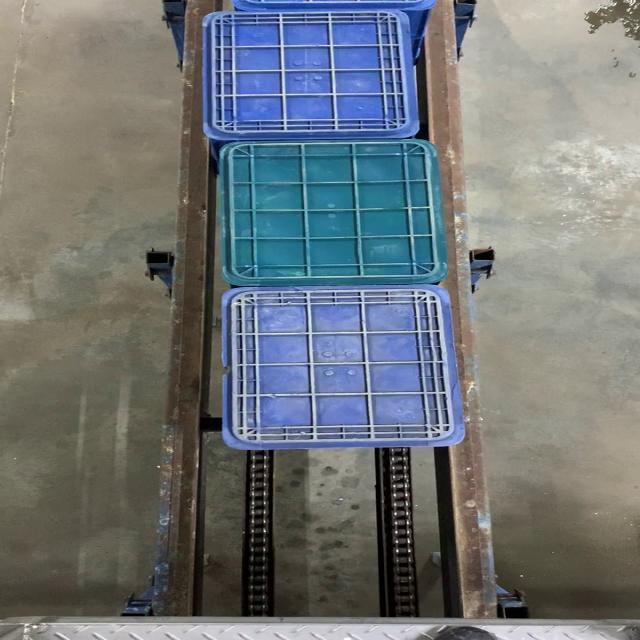Box: (218, 287, 467, 449), (218, 141, 448, 285), (202, 6, 421, 140)
